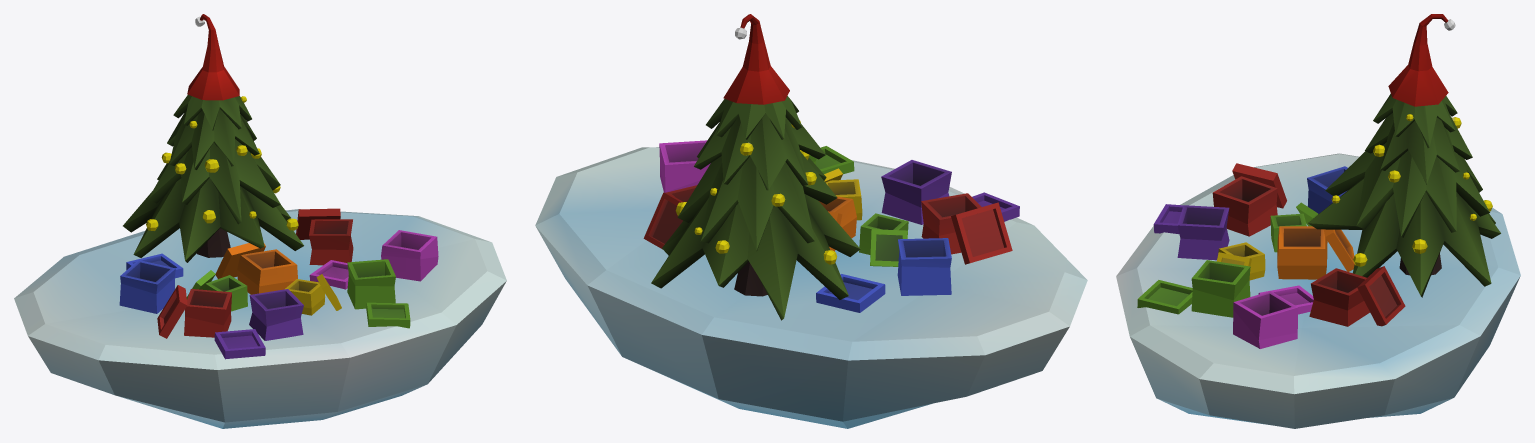
File: environment.fbx
3 renders of one model, left to right at view 1: azimuth 30°, elevation 25°; view 2: azimuth 150°, elevation 25°; view 3: azimuth 270°, elevation 25°, orthographic. The views are drawn at different scales.
Parts seen in each view (by area): view 1: environment.001; view 2: environment.001; view 3: environment.001.
Boxes of the visible parts, <box> form: environment.001: <box>14,14,506,428</box>; environment.001: <box>535,14,1087,428</box>; environment.001: <box>1116,14,1520,428</box>.
Bounding box in the file's own units: 1229 × 843 × 874.
